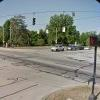Traffic light: (23, 13, 40, 30)
